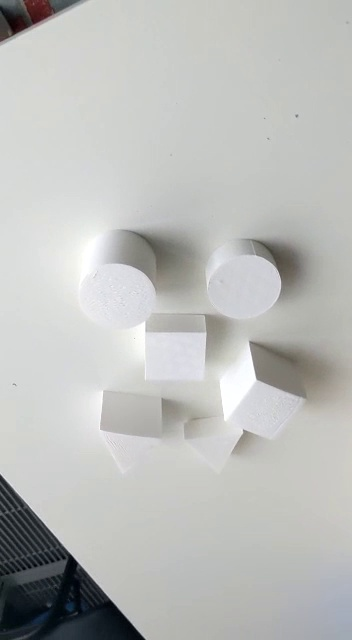Clyinder_short: (200, 236, 283, 321)
Cube: (217, 337, 307, 448)
Cube_short: (142, 303, 213, 386)
Cylinder: (74, 227, 159, 333)
Triangle: (97, 387, 166, 485)
Triangle_short: (181, 413, 252, 478)
